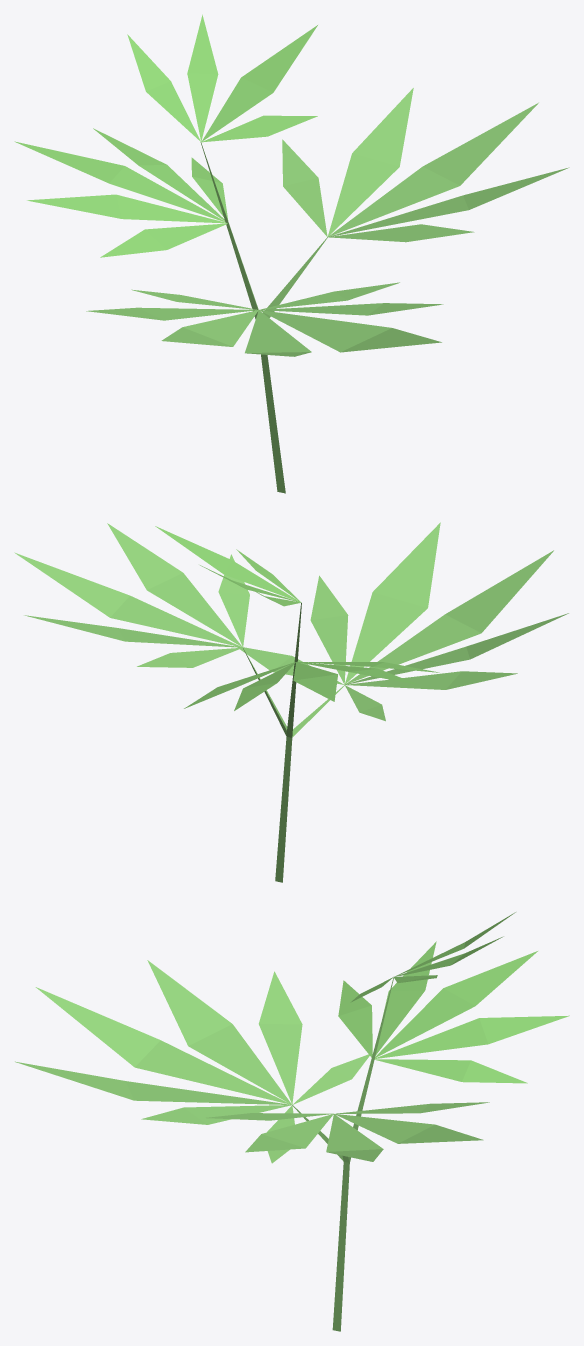
Rendered from Plant_i_TwoS_02.fbx.
3 views of the same model, one above another, from view 1: azimuth 30°, elevation 25°; view 2: azimuth 150°, elevation 25°; view 3: azimuth 270°, elevation 25° (orthographic). The views are drawn at different scales.
Visible parts, largest first — view 1: Plant_i_TwoS_02; view 2: Plant_i_TwoS_02; view 3: Plant_i_TwoS_02.
Part boxes in pixels (x1,y1,x2,y2): Plant_i_TwoS_02: (14, 14, 569, 493); Plant_i_TwoS_02: (14, 522, 568, 882); Plant_i_TwoS_02: (15, 912, 569, 1331).
Bounding box in the file's own units: 53.72 × 41.94 × 53.25.
